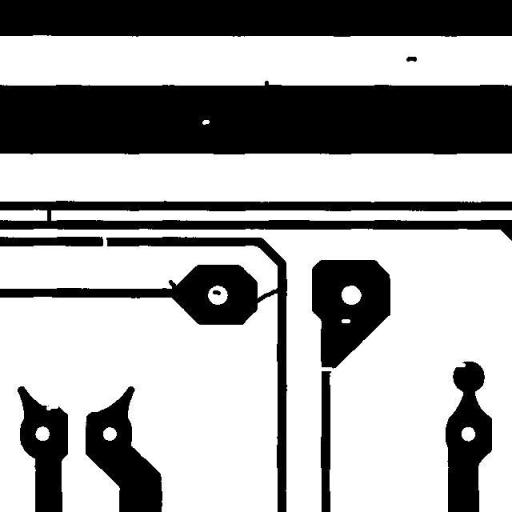copper: (398, 49, 424, 69), (205, 282, 228, 302)
mousebite: (38, 396, 66, 418), (444, 356, 473, 374)
open: (310, 359, 344, 382), (94, 226, 114, 257)
pin-hole: (194, 112, 217, 132), (334, 312, 358, 330)
short: (244, 278, 290, 312), (40, 194, 58, 232)
spur: (161, 272, 183, 296), (257, 72, 276, 98)
